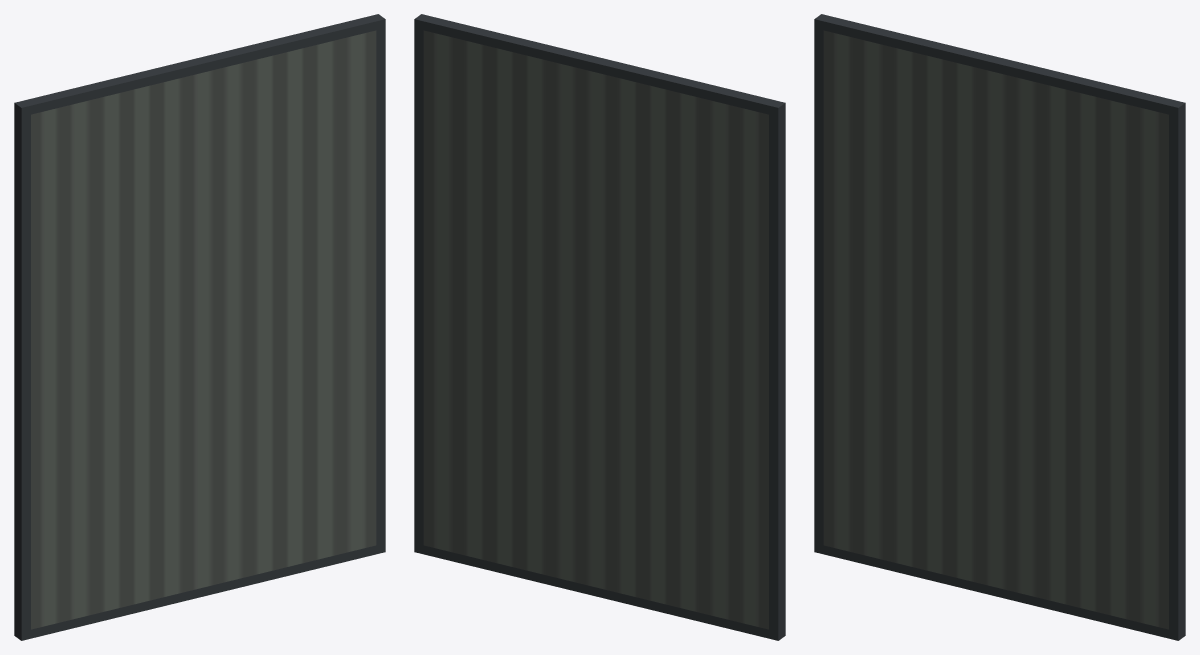
Rendered from SM_Bld_Hangar_Door_01.glb.
3 views of the same model, side by side, from view 1: azimuth 30°, elevation 25°; view 2: azimuth 150°, elevation 25°; view 3: azimuth 330°, elevation 25° (orthographic).
Visible parts, largest first — view 1: SM_Bld_Hangar_Door_01; view 2: SM_Bld_Hangar_Door_01; view 3: SM_Bld_Hangar_Door_01.
Boxes of the visible parts, x1,y1,x2,y2 form: SM_Bld_Hangar_Door_01: (14, 14, 385, 640); SM_Bld_Hangar_Door_01: (414, 14, 785, 640); SM_Bld_Hangar_Door_01: (814, 14, 1185, 640).
Size of the model in its own units: 4.57 by 6.4 by 0.1528.
Materials: 1 (1 with a texture image).
